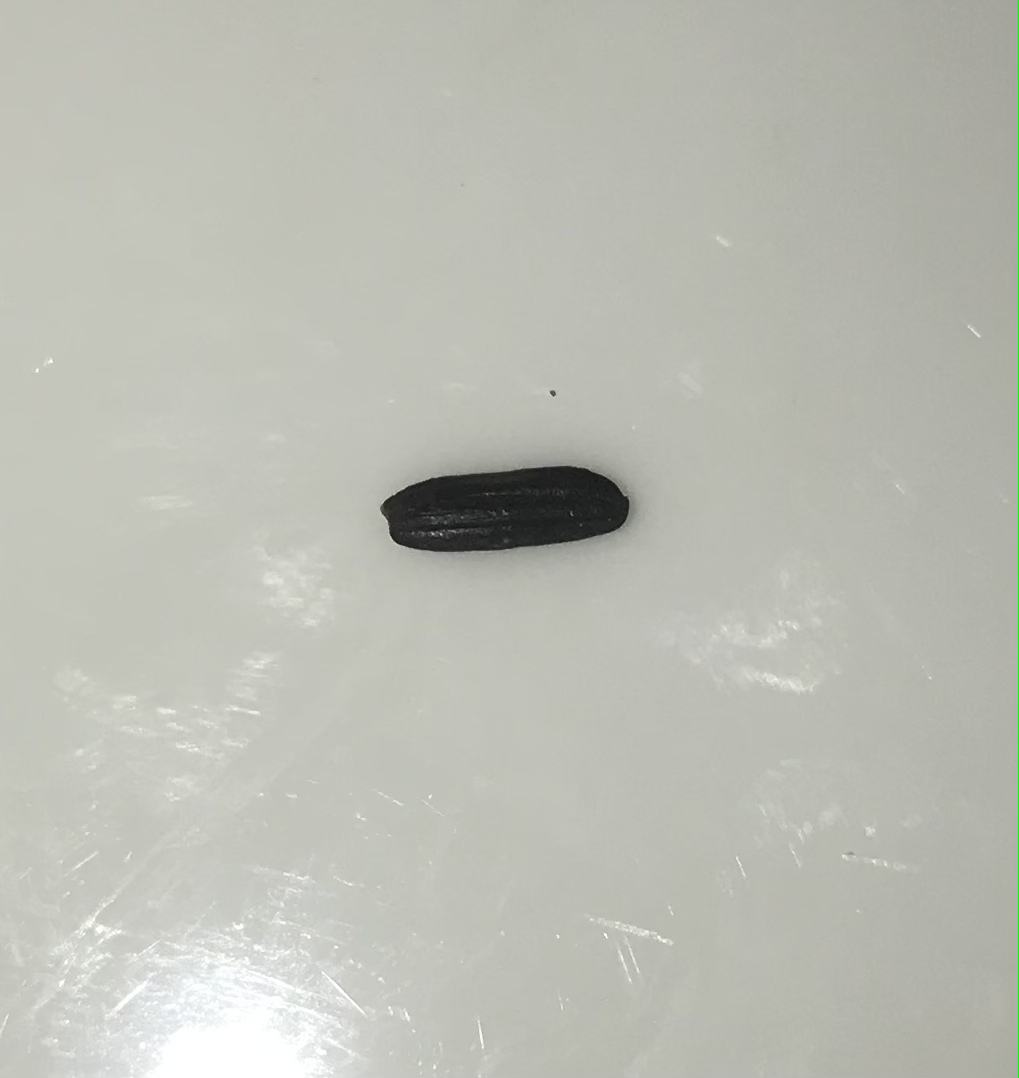Gao lut: (378, 461, 639, 561)
